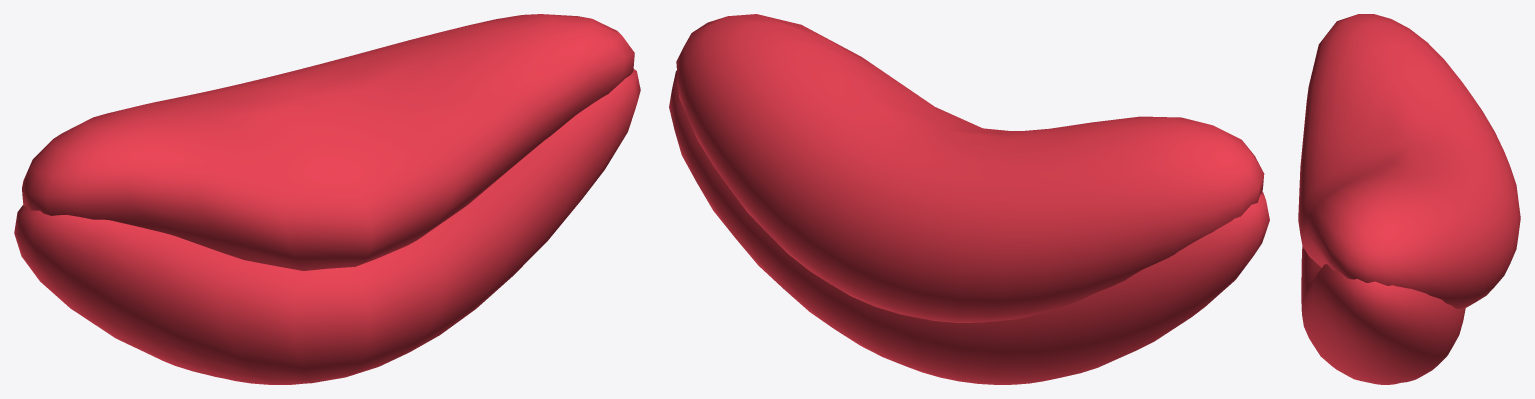
File: улы.fbx
3 views of the same model, side by side, from view 1: azimuth 30°, elevation 25°; view 2: azimuth 150°, elevation 25°; view 3: azimuth 270°, elevation 25° (orthographic). The views are drawn at different scales.
Parts seen in each view (by area): view 1: Sphere.001, Sphere; view 2: Sphere.001, Sphere; view 3: Sphere.001, Sphere.
Part boxes in pixels (bbox=[...]): Sphere.001: bbox=[22, 14, 634, 270]; Sphere: bbox=[14, 69, 640, 384]; Sphere.001: bbox=[676, 14, 1264, 322]; Sphere: bbox=[669, 70, 1269, 384]; Sphere.001: bbox=[1298, 14, 1520, 309]; Sphere: bbox=[1301, 246, 1465, 384].
Bounding box in the file's own units: 524 × 246 × 200.
